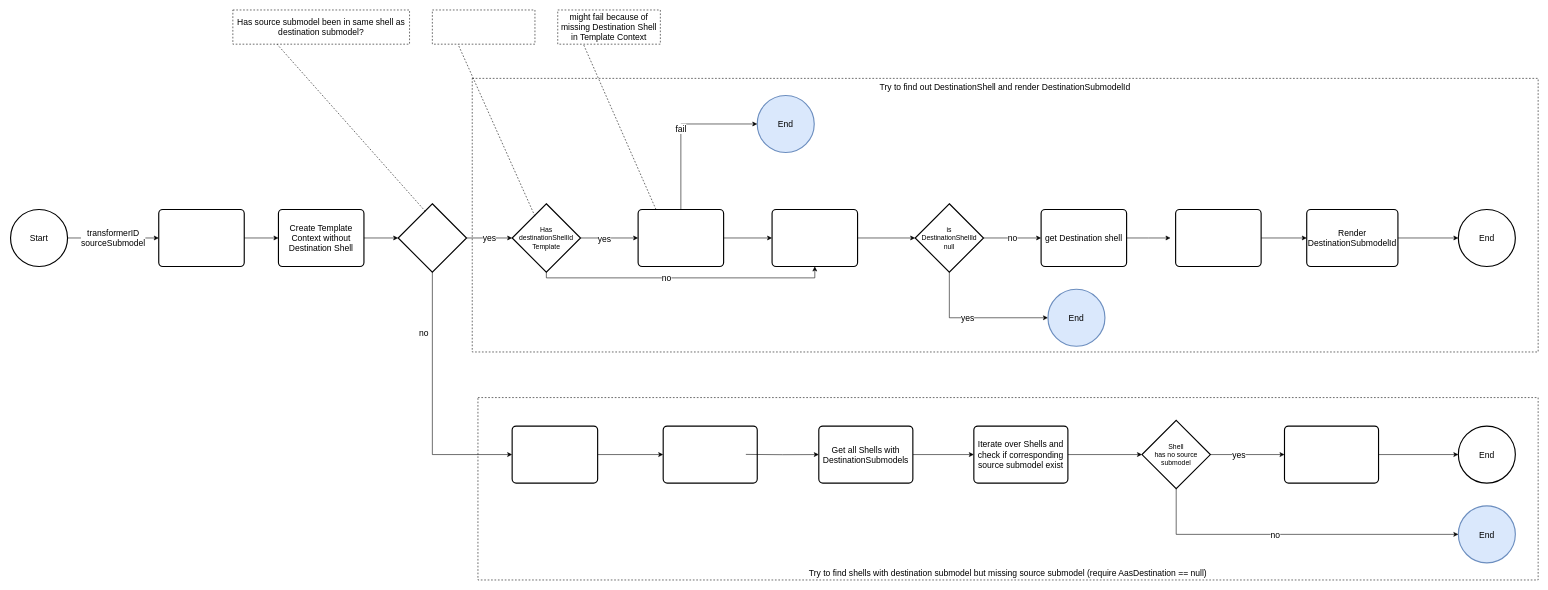
Some shapes in this 1548 by 590 pixel diagram are drawn without their labels. The shapes that lost their labels are listed below. From the top down, each one's box as (x1, y1, x2, y2) in pixels, then its label:
(432, 9, 535, 44): Is AasDestination static
(158, 209, 245, 267): Get Transformer
(397, 203, 467, 272): Has Transformer AasDestination
(637, 209, 724, 267): Try render AasDestination without full Template Context
(771, 209, 858, 267): Set destinationShellId
(1175, 209, 1261, 267): Update Template Context with DestinationShell
(511, 425, 598, 483): render DestinationSubmodel IdShort
(662, 425, 758, 483): Get all Submodels with DestinationSubmodel IdShort
(1284, 425, 1379, 483): Set destination submodel as orphan
